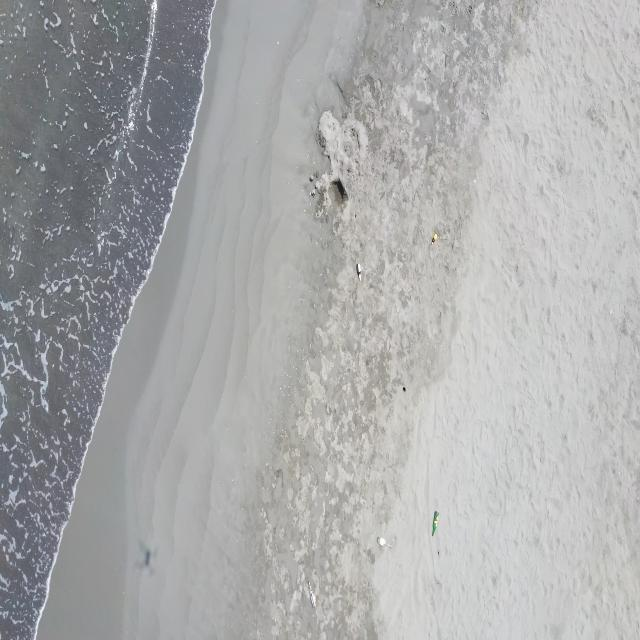glass: (308, 581, 318, 609), (431, 509, 440, 536), (377, 536, 394, 548), (357, 262, 362, 282), (431, 232, 437, 245)
